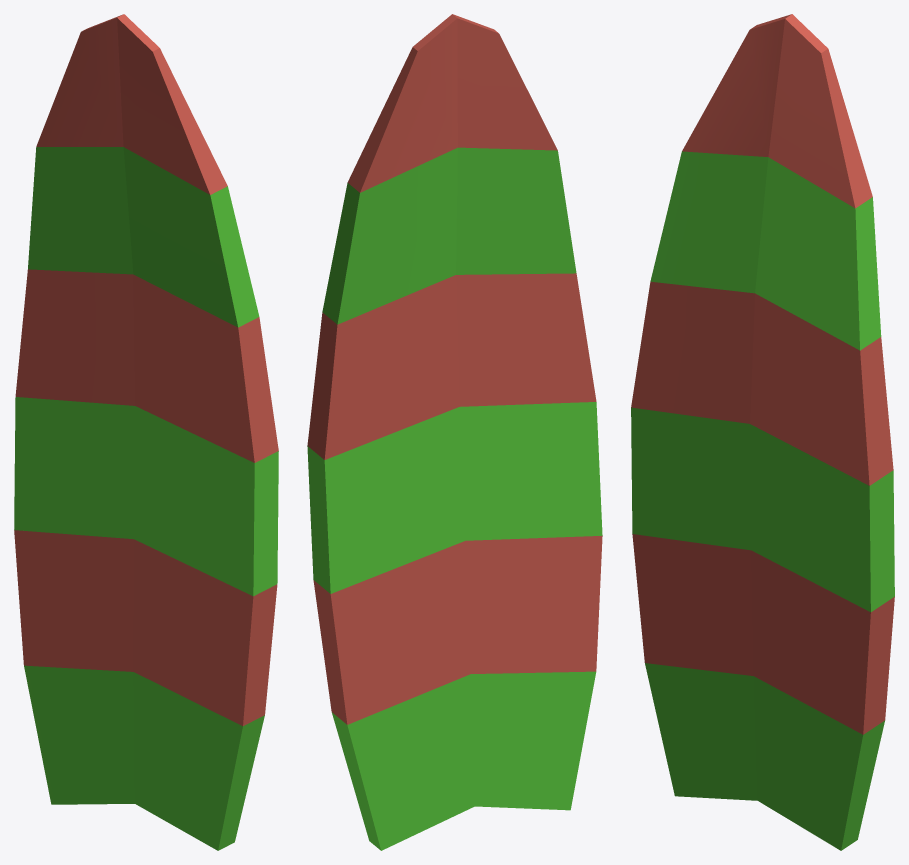
File: TablaSurf2.fbx
3 renders of one model, left to right at view 1: azimuth 90°, elevation 25°; view 2: azimuth 150°, elevation 25°; view 3: azimuth 270°, elevation 25°, orthographic.
Parts seen in each view (by area): view 1: SURFBOARD2; view 2: SURFBOARD2; view 3: SURFBOARD2.
Part boxes in pixels (x1=…): SURFBOARD2: x1=14, y1=14, x2=278, y2=850; SURFBOARD2: x1=307, y1=14, x2=602, y2=850; SURFBOARD2: x1=631, y1=14, x2=894, y2=850.
Bounding box in the file's own units: 0.2859 × 1.2 × 0.3558.
